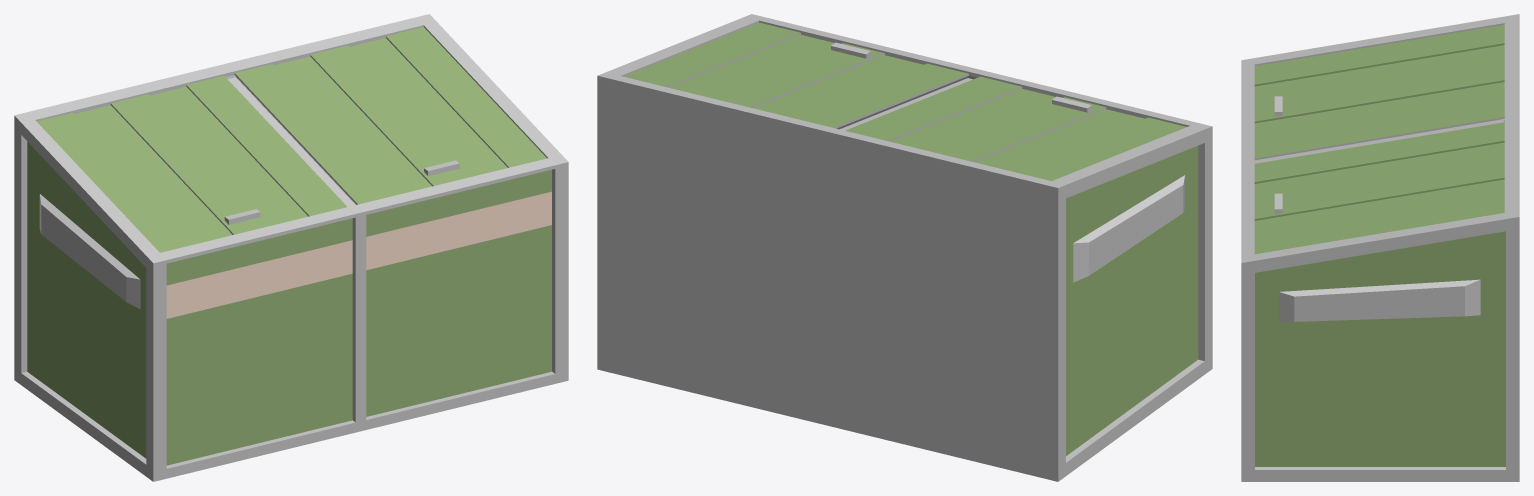
The model's file is DoubleBin.fbx.
The picture shows the model from 3 angles, left to right: view 1: azimuth 30°, elevation 25°; view 2: azimuth 150°, elevation 25°; view 3: azimuth 270°, elevation 25°; orthographic projection. The views are drawn at different scales.
Parts seen in each view (by area): view 1: double_bin; view 2: double_bin; view 3: double_bin.
Part boxes in pixels (bbox=[...]): double_bin: bbox=[14, 14, 568, 481]; double_bin: bbox=[597, 14, 1212, 481]; double_bin: bbox=[1241, 14, 1519, 481].
Size of the model in its own units: 152 by 92.39 by 87.97.
